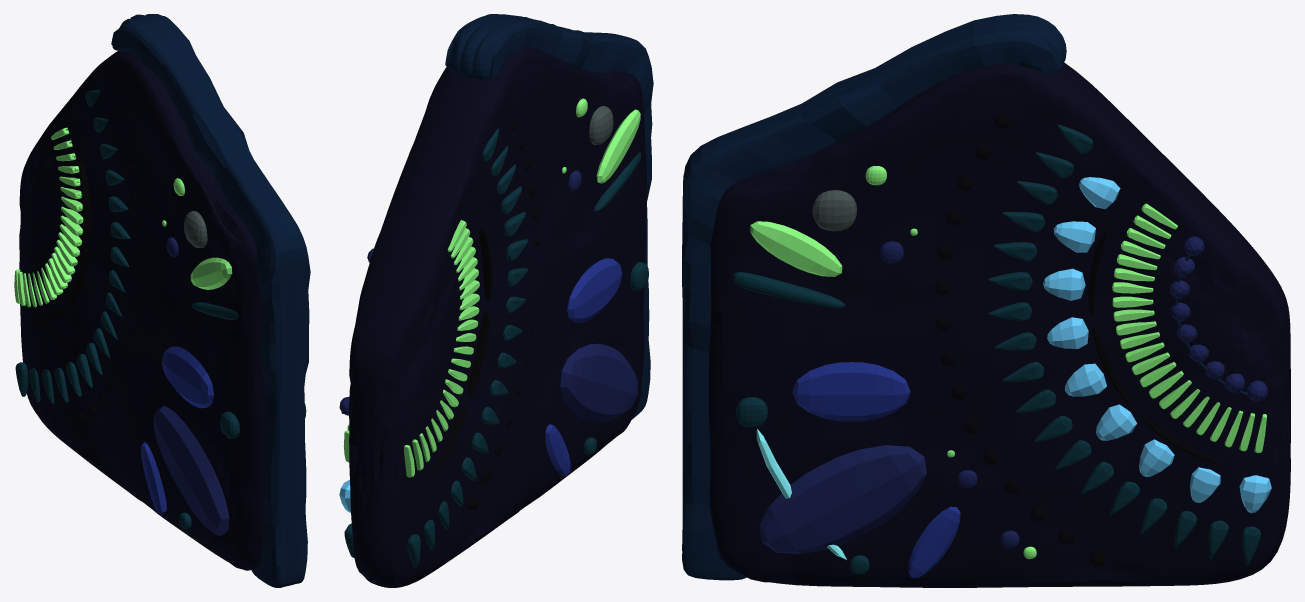
Rendered from st3_door_left.fbx.
3 renders of one model, left to right at view 1: azimuth 30°, elevation 25°; view 2: azimuth 150°, elevation 25°; view 3: azimuth 270°, elevation 25°, orthographic. The views are drawn at different scales.
Visible parts, largest first — view 1: stage3_skill_gimmick_door_art1_left_door; view 2: stage3_skill_gimmick_door_art1_left_door; view 3: stage3_skill_gimmick_door_art1_left_door.
Part boxes in pixels (x1,y1,x2,y2): stage3_skill_gimmick_door_art1_left_door: (14,14,310,587); stage3_skill_gimmick_door_art1_left_door: (339,14,653,587); stage3_skill_gimmick_door_art1_left_door: (682,14,1290,587).
Size of the model in its own units: 41.3 by 222 by 220.
